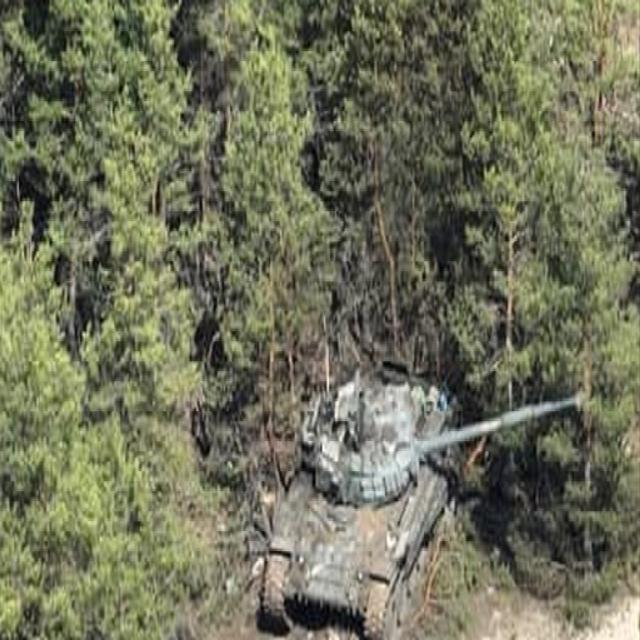TANK: (256, 364, 590, 638)
